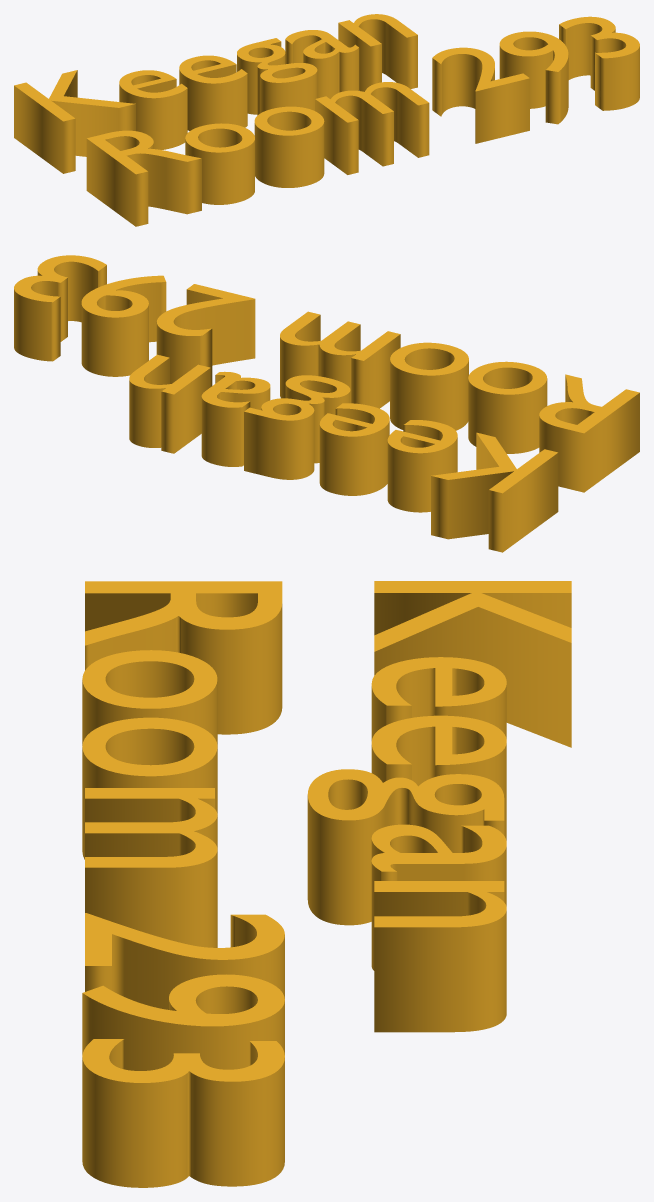
Rendered from keegan-293.gltf.
The picture shows the model from 3 angles, top to bottom: view 1: azimuth 30°, elevation 25°; view 2: azimuth 150°, elevation 25°; view 3: azimuth 270°, elevation 25°; orthographic projection. The views are drawn at different scales.
Parts seen in each view (by area): view 1: Text; view 2: Text; view 3: Text.
Part boxes in pixels (bbox=[...]): Text: bbox=[14, 14, 639, 226]; Text: bbox=[14, 255, 639, 552]; Text: bbox=[82, 581, 571, 1187].
Size of the model in its own units: 4.11 by 0.4 by 1.69.
